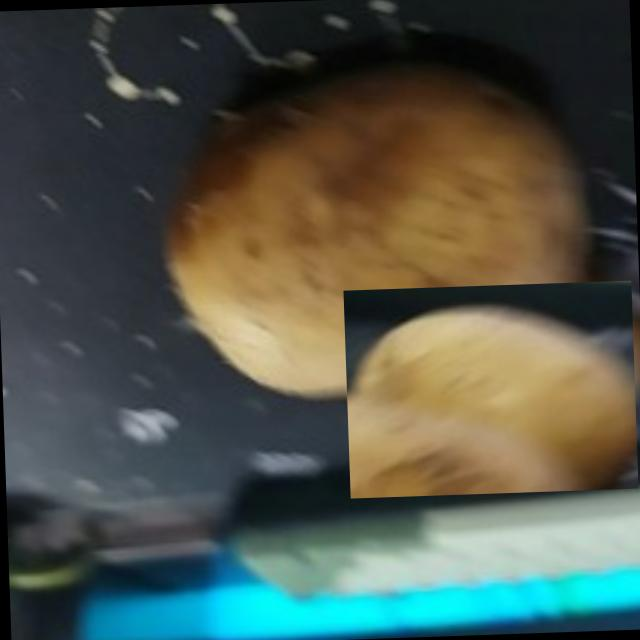Damaged potato: (134, 48, 636, 408)
Potato: (343, 280, 638, 498)
